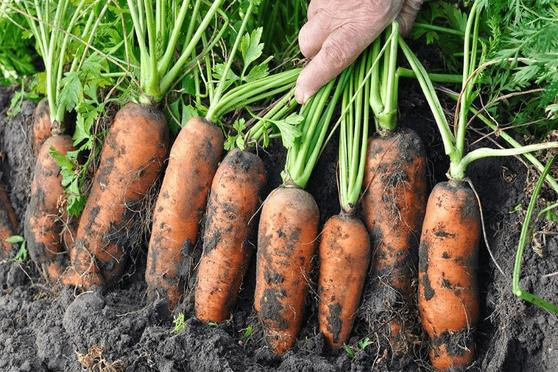carrot: (73, 93, 168, 281)
